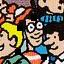waldo: (7, 4, 44, 47)
